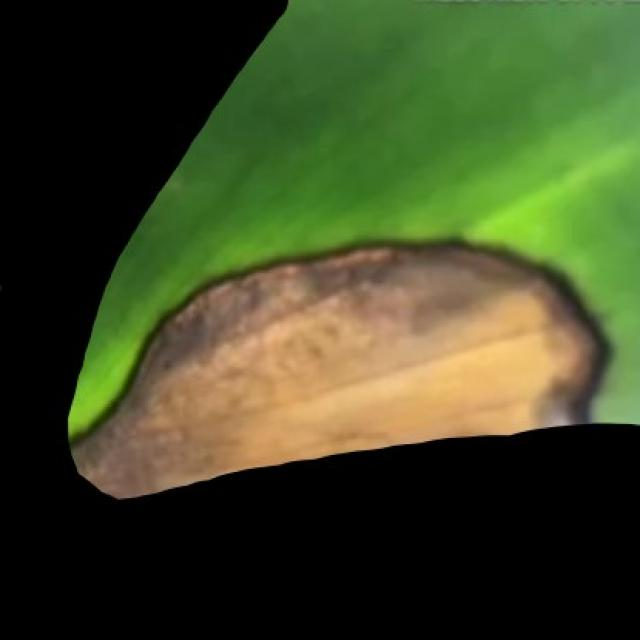mite: (0, 233, 19, 324), (403, 0, 638, 6), (0, 228, 11, 350), (0, 267, 14, 313), (0, 265, 5, 333), (0, 273, 5, 304)
sunburn: (68, 233, 614, 501)
